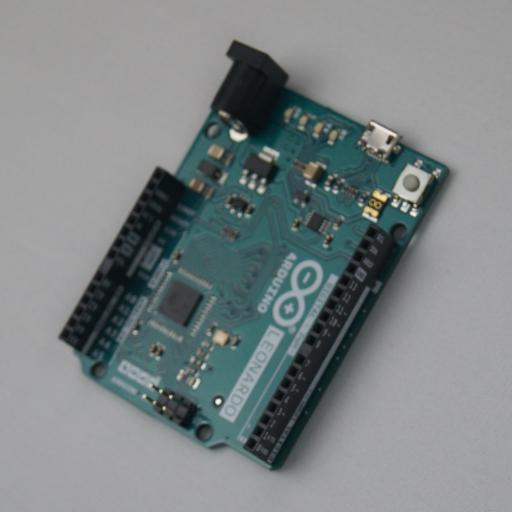Arduino Leonardo: (58, 40, 454, 472)
